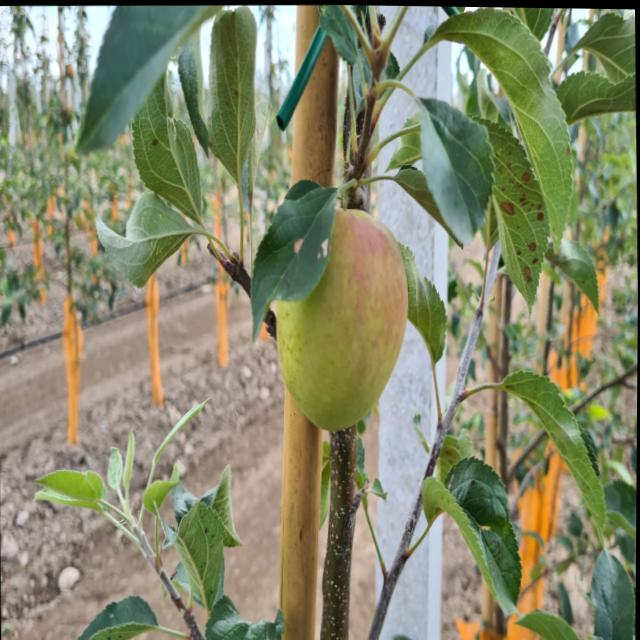Apple: (277, 208, 408, 428)
